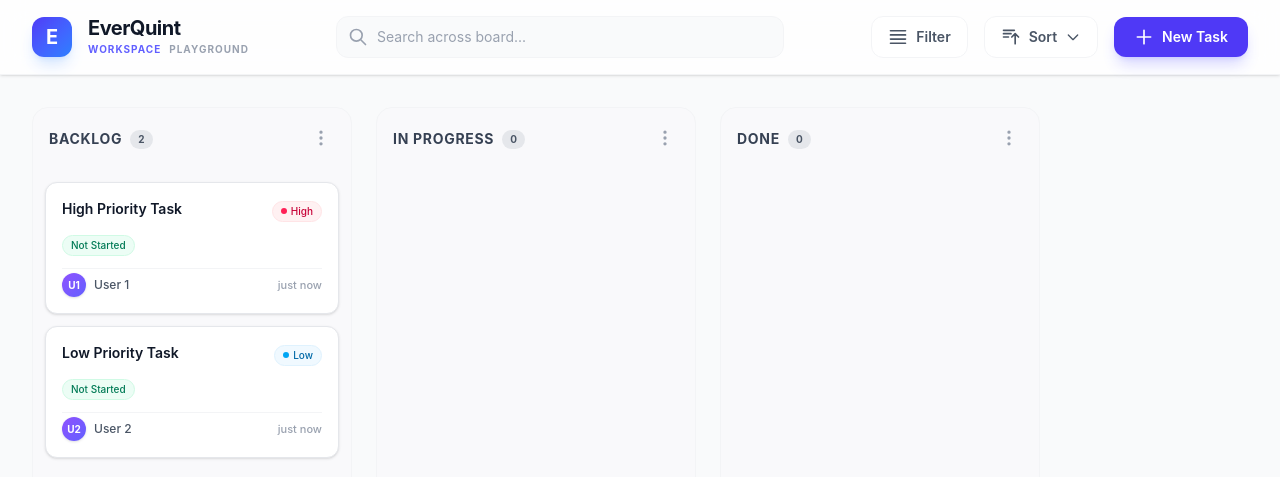
Test: UI Behavior: Task Filtering › should show all tasks when clearing filters
The image size is (1280, 477).
Expected: the heading "High Priority Task" is shown, [62, 199, 182, 218]
Click the button "Filter" at point(920, 37), box [871, 16, 968, 58]
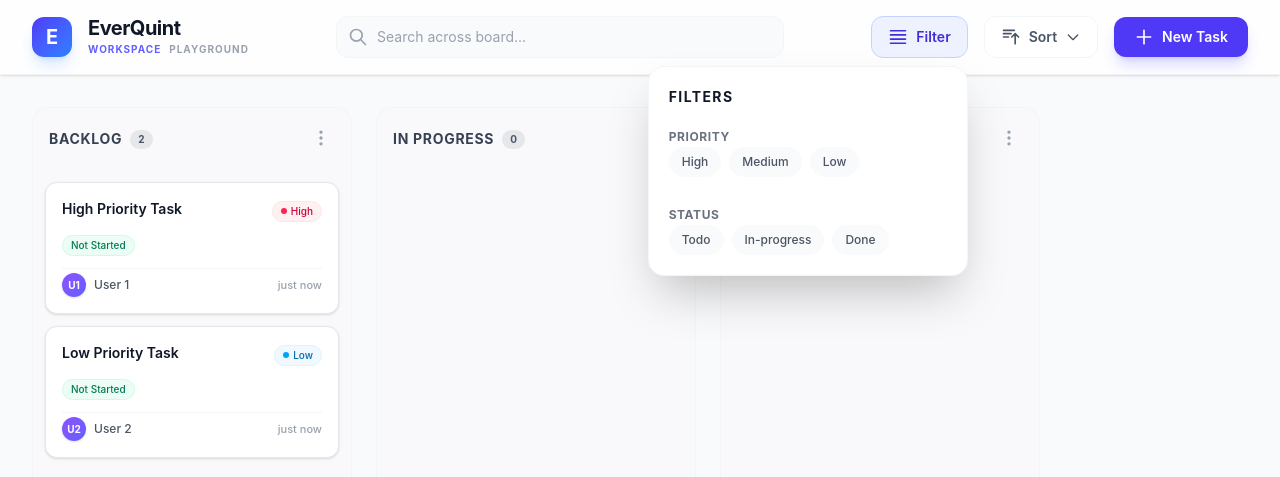
Click the button "High" at point(695, 162), box [669, 147, 721, 177]
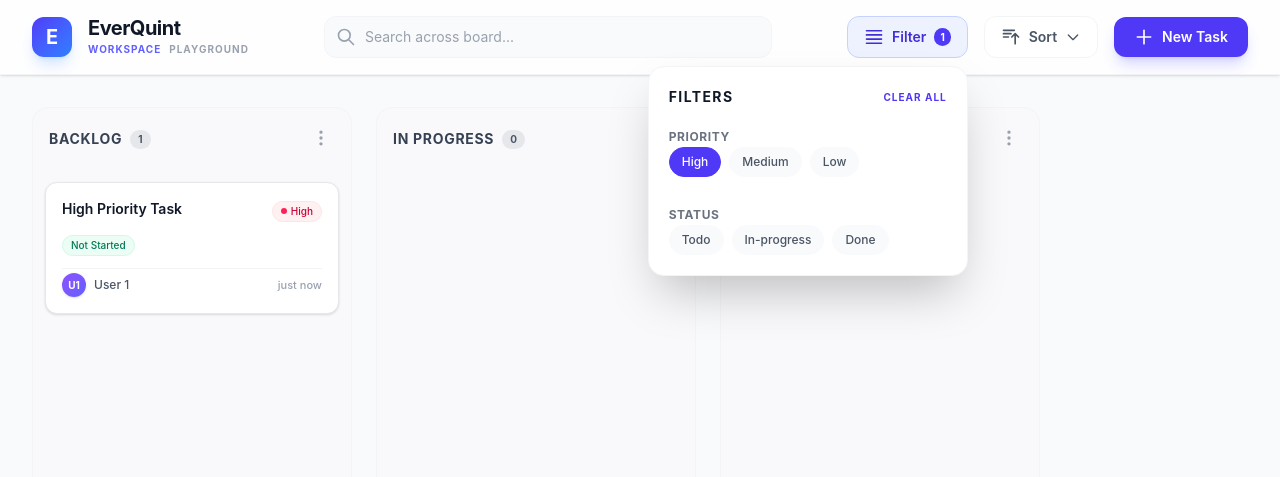
Expected: the heading "Low Priority Task" is gone
// Clear filters
Click the button "Clear All" at point(915, 97), box [883, 90, 947, 104]
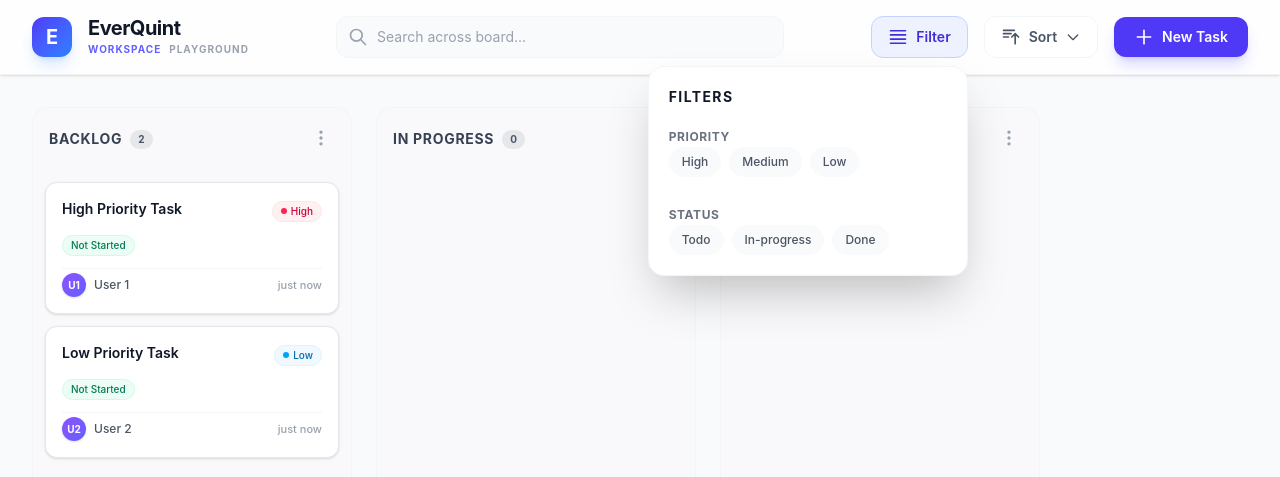
Expected: the heading "High Priority Task" is shown, [62, 199, 182, 218]
Expected: the heading "Low Priority Task" is shown, [62, 343, 179, 362]
